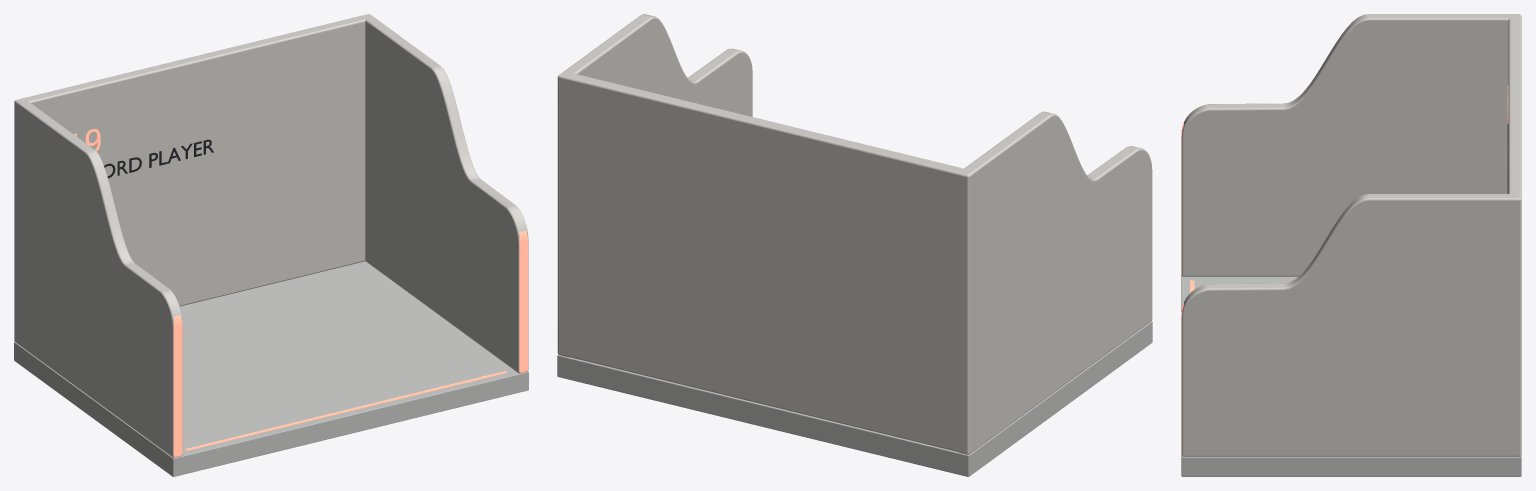
File: Room_19_record-player.glb
The picture shows the model from 3 angles, left to right: view 1: azimuth 30°, elevation 25°; view 2: azimuth 150°, elevation 25°; view 3: azimuth 270°, elevation 25°; orthographic projection. The views are drawn at different scales.
Parts seen in each view (by area): view 1: Walls, Floor, Accent, Label; view 2: Walls, Floor; view 3: Walls, Floor.
Boxes of the visible parts, x1,y1,x2,y2 form: Walls: (14,14,528,457); Floor: (14,261,528,476); Accent: (184,371,507,450); Label: (73,129,213,178); Walls: (557,14,1152,454); Floor: (557,321,1152,476); Walls: (1181,14,1521,456); Floor: (1181,275,1521,476).
Size of the model in its own units: 4 by 2.8 by 3.1.
